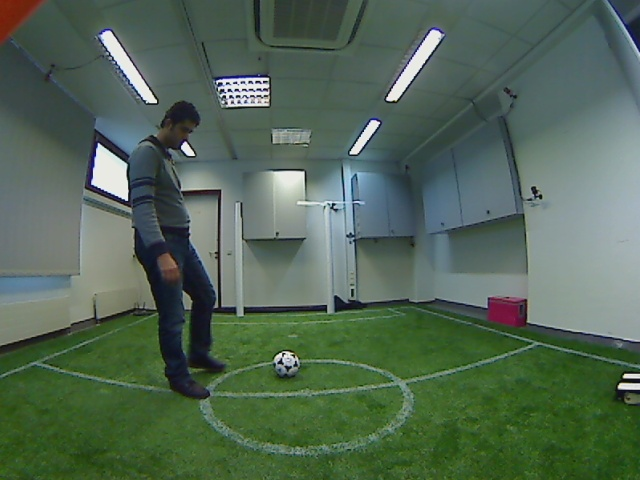ball: (268, 346, 305, 381)
